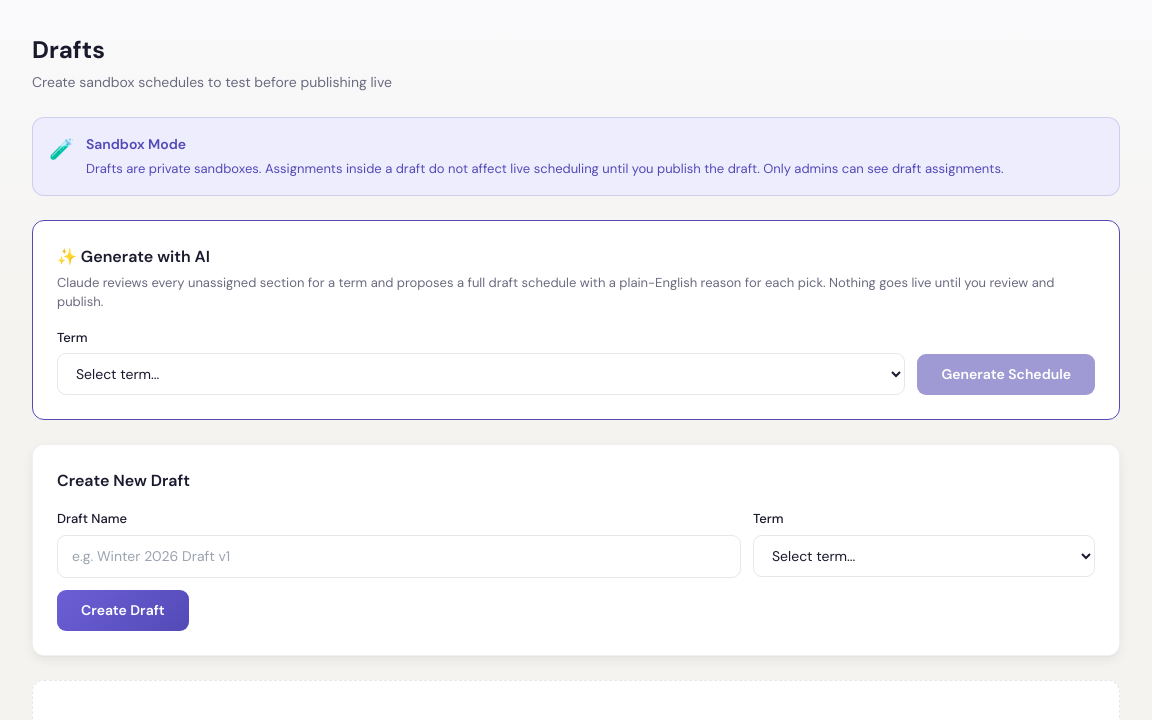
Test: AdminDrafts › validates the new-draft form
Click the button "Create Draft" at (123, 610), box [57, 590, 189, 630]
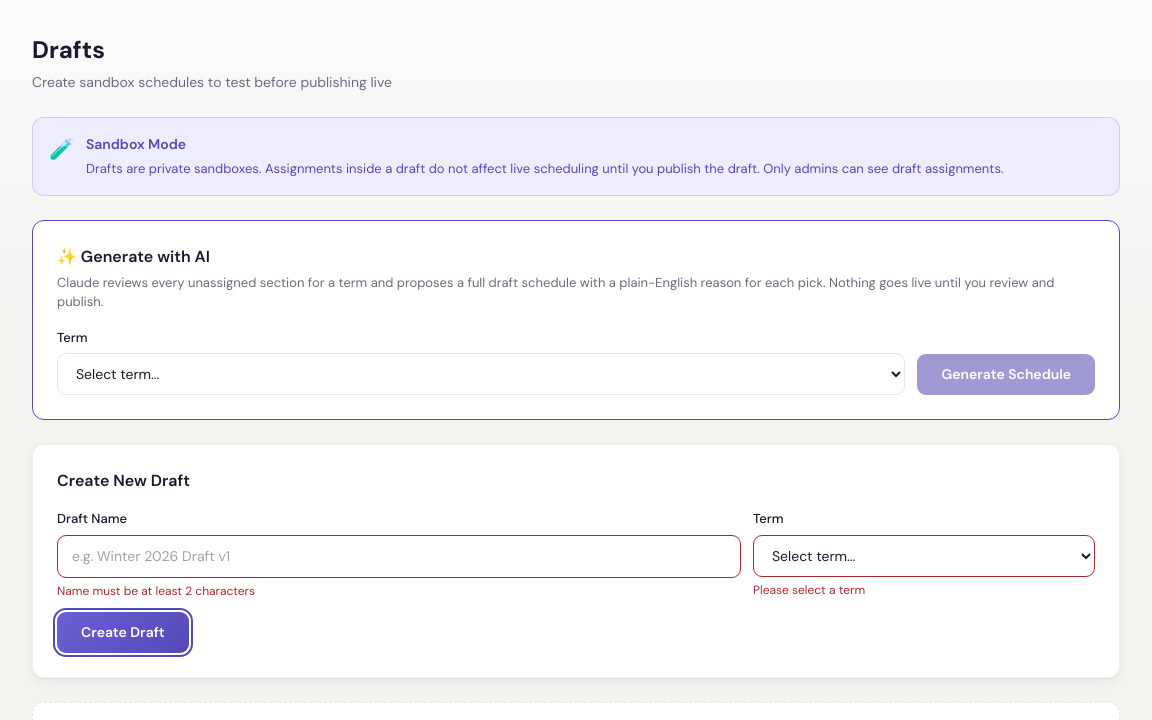
Now the text "Name must be at least 2 characters" is shown, box [57, 582, 255, 598]
Now the text "Please select a term" is shown, box [753, 582, 865, 598]
